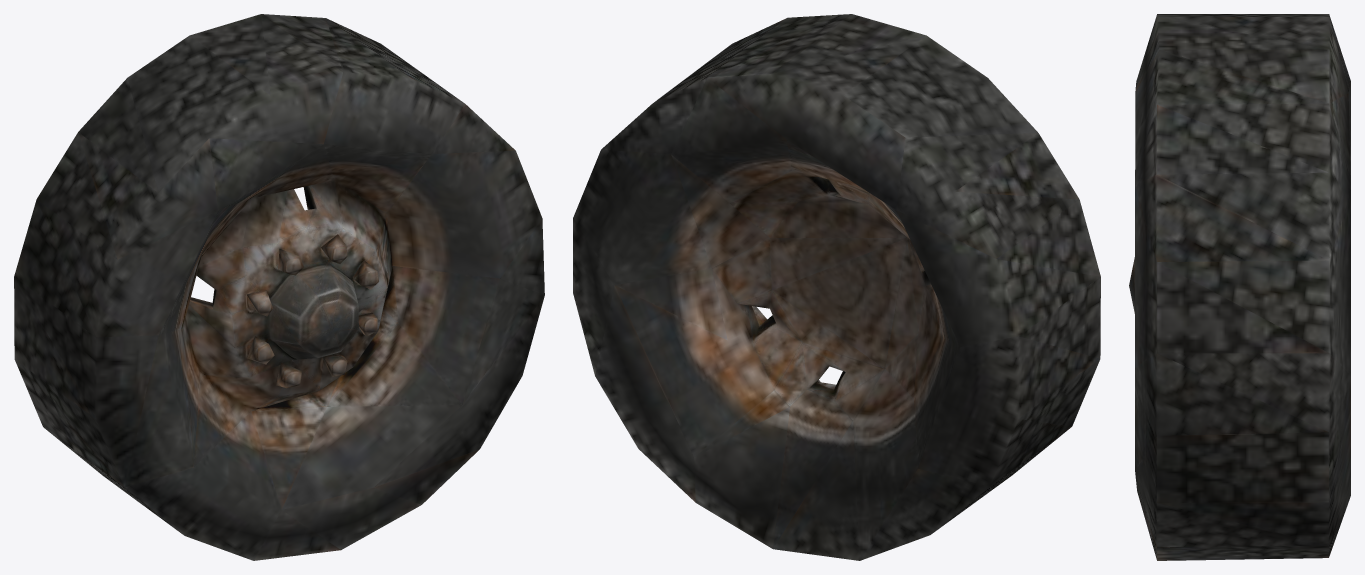
The model's file is big_rig_wheel.glb.
The picture shows the model from 3 angles, left to right: view 1: azimuth 30°, elevation 25°; view 2: azimuth 150°, elevation 25°; view 3: azimuth 270°, elevation 25°; orthographic projection. The views are drawn at different scales.
Parts seen in each view (by area): view 1: geometry_0; view 2: geometry_0; view 3: geometry_0.
Boxes of the visible parts, <box> form: geometry_0: <box>14,14,544,560</box>; geometry_0: <box>573,14,1100,560</box>; geometry_0: <box>1129,14,1350,560</box>.
Bounding box in the file's own units: 0.9141 × 0.9268 × 0.374.
Materials: 1 (1 with a texture image).
